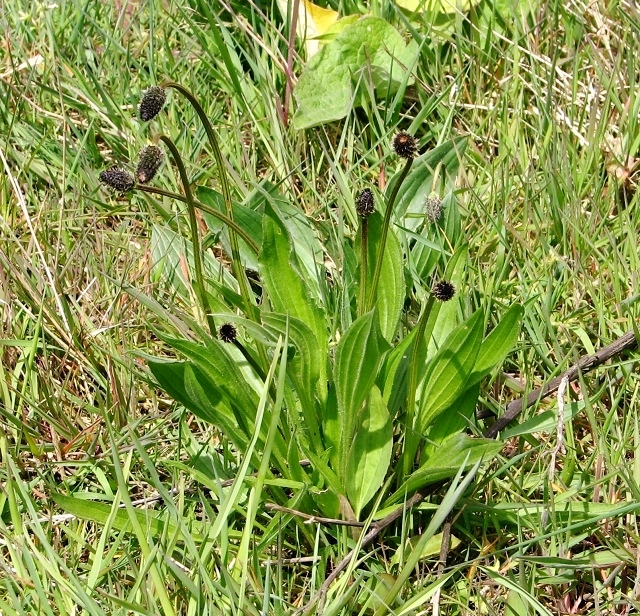buckhorn plantain: (96, 60, 530, 544)
